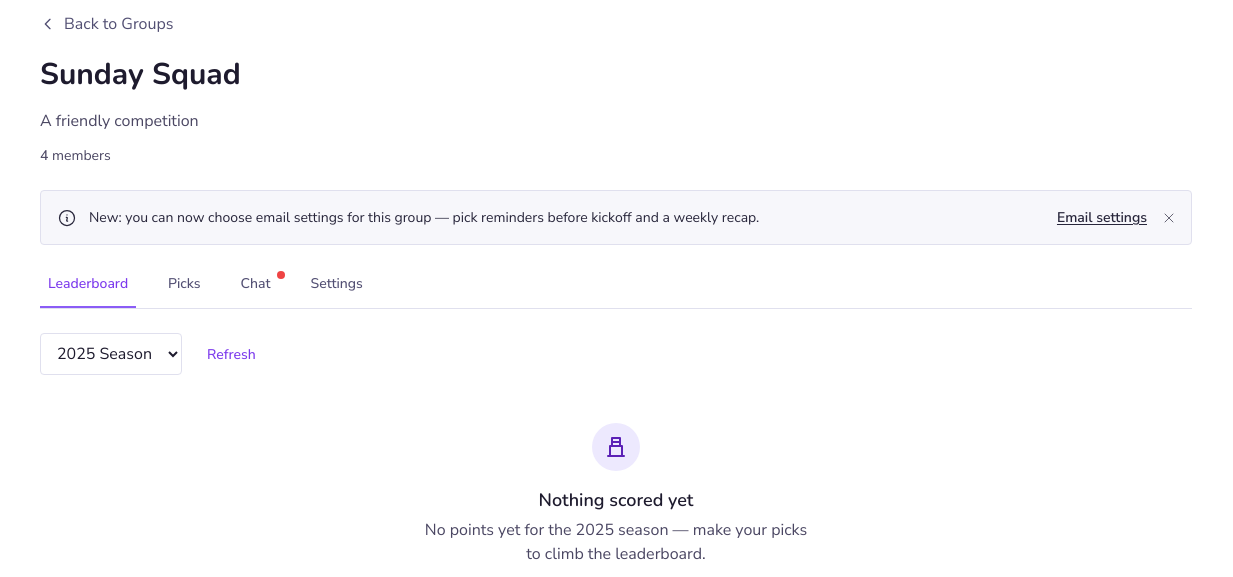
Test: GroupDetailsPage › unread chat indicator › clears the dot and marks the chat read when the Chat tab is opened
The image size is (1233, 577).
Expected: the heading "Sunday Squad" is shown, x1=40 y1=54 x2=241 y2=95
Expected: the message with test id "chat-unread-indicator" is shown, x1=276 y1=271 x2=284 y2=279
Click the tab "Chat" at (256, 290), box x1=233 y1=273 x2=278 y2=308
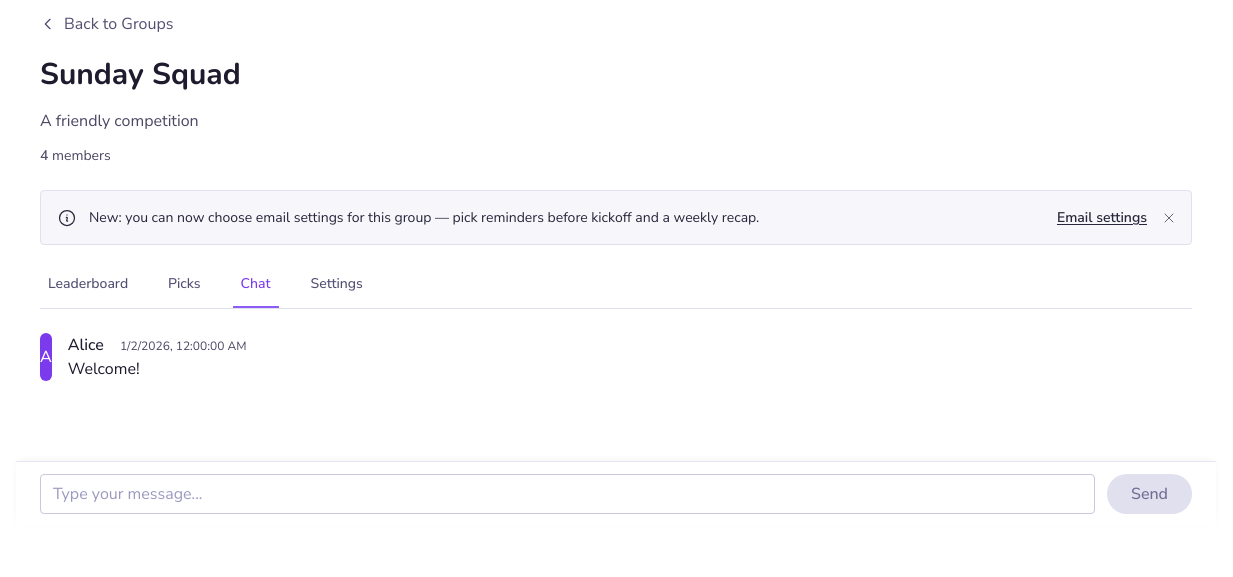
Expected: the text "Welcome!" is shown, x1=68 y1=358 x2=140 y2=380
Expected: the message with test id "chat-unread-indicator" is gone
